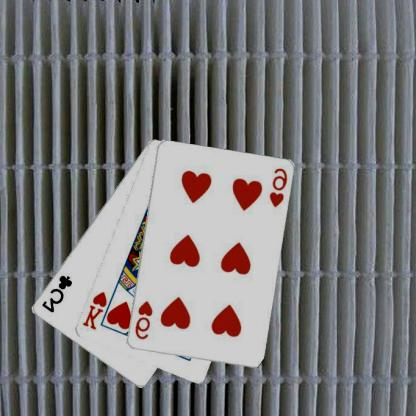3C: (40, 273, 75, 314)
6H: (134, 298, 156, 341), (268, 166, 290, 209)
KH: (81, 289, 110, 331)
